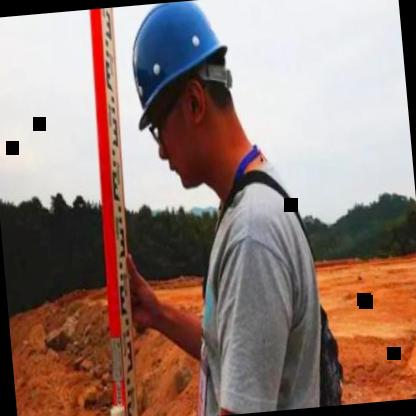helmet: (114, 0, 256, 207)
